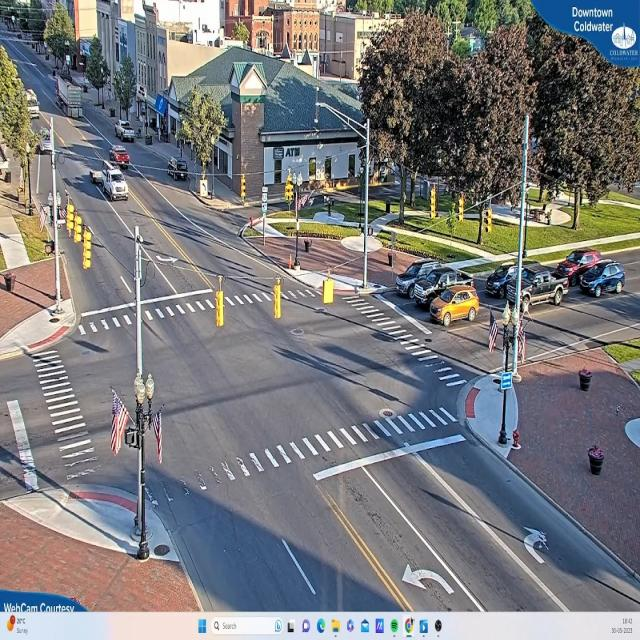car: (424, 283, 482, 326), (574, 259, 627, 298), (99, 172, 130, 203), (166, 158, 188, 180), (116, 121, 135, 142)
truck: (52, 68, 86, 118)
